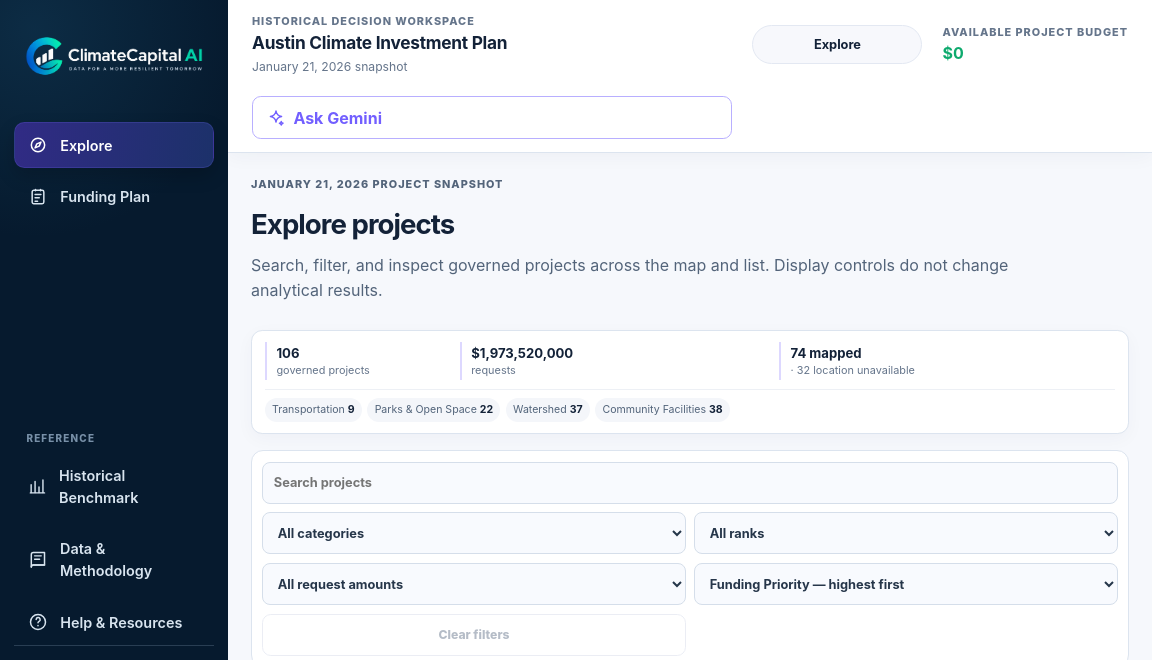
Test: ClimateCapital application shell › presents plain-language Data & Methodology guidance and the Gemini decision boundary
Click the link "Data & Methodology".
click(90, 560)  # box top-left (28, 540), bottom-right (152, 579)
(page scrolled)
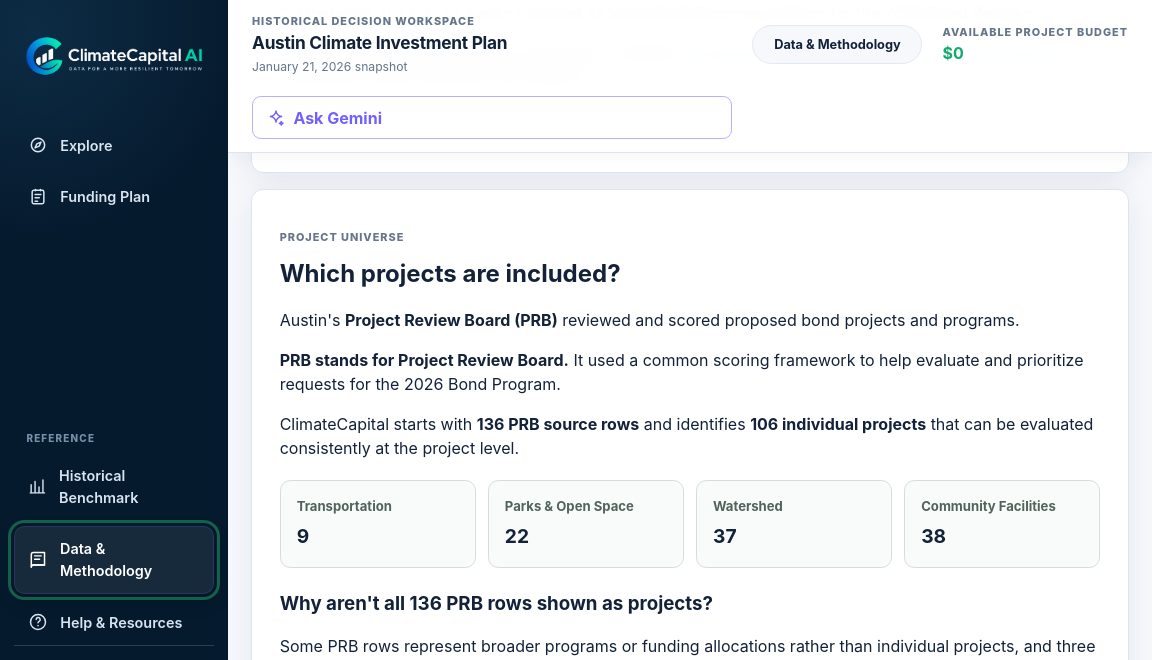
Expected: the text "PRB stands for Project Review Board." is shown, top-left (280, 350), bottom-right (569, 370)
